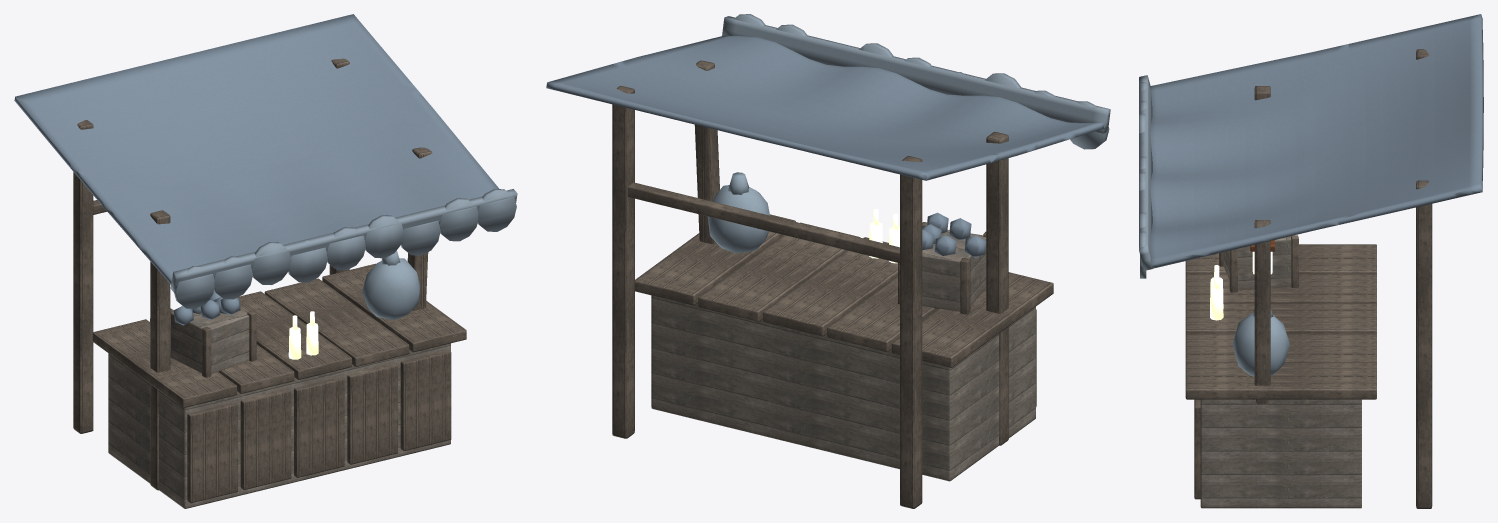
The model's file is stall.glb.
3 renders of one model, left to right at view 1: azimuth 30°, elevation 25°; view 2: azimuth 150°, elevation 25°; view 3: azimuth 270°, elevation 25°, orthographic. The views are drawn at different scales.
Parts seen in each view (by area): view 1: stall; view 2: stall; view 3: stall.
Part boxes in pixels (x1,y1,x2,y2): stall: (14,14,517,508); stall: (546,14,1110,508); stall: (1139,14,1483,508).
Size of the model in its own units: 3.32 by 3.02 by 2.77.
3 materials, 2 textured.
